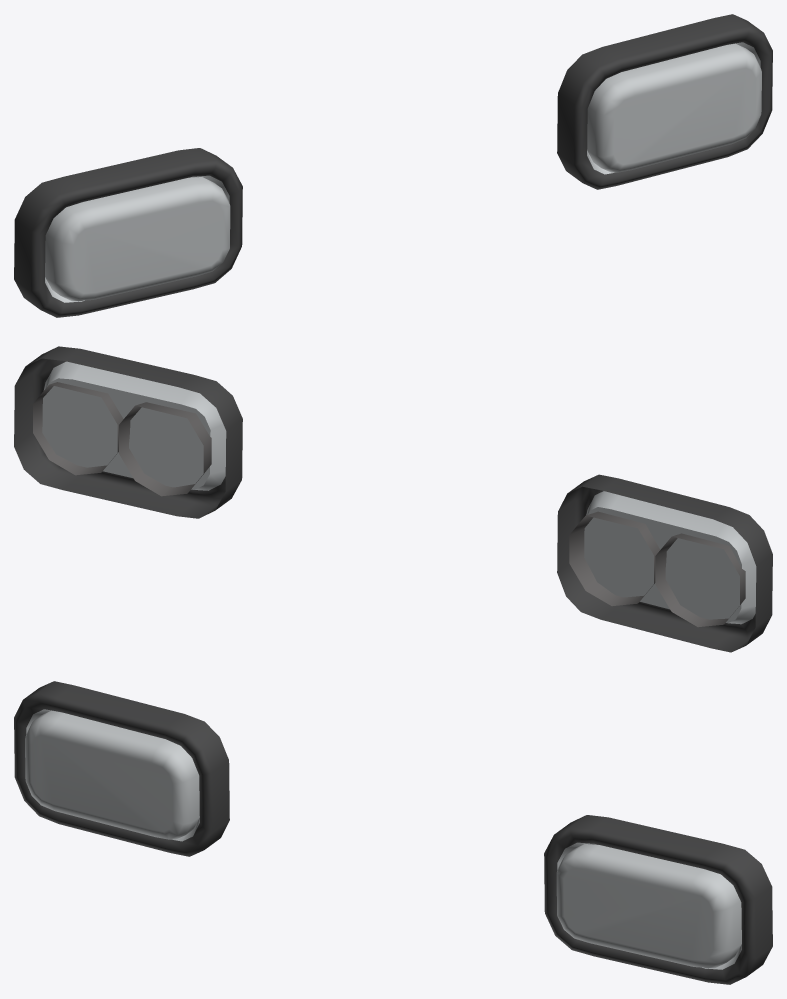
Rendered from Car_04_Headlight_Cool.fbx.
The picture shows the model from 3 angles, top to bottom: view 1: azimuth 30°, elevation 25°; view 2: azimuth 150°, elevation 25°; view 3: azimuth 330°, elevation 25°; orthographic projection.
Parts seen in each view (by area): view 1: Car_04_Headlight_Cool; view 2: Car_04_Headlight_Cool; view 3: Car_04_Headlight_Cool.
Boxes of the visible parts, bbox=[...] form: Car_04_Headlight_Cool: bbox=[14, 14, 772, 317]; Car_04_Headlight_Cool: bbox=[14, 346, 772, 652]; Car_04_Headlight_Cool: bbox=[14, 681, 772, 984].
Size of the model in its own units: 166 by 13.24 by 27.4.
